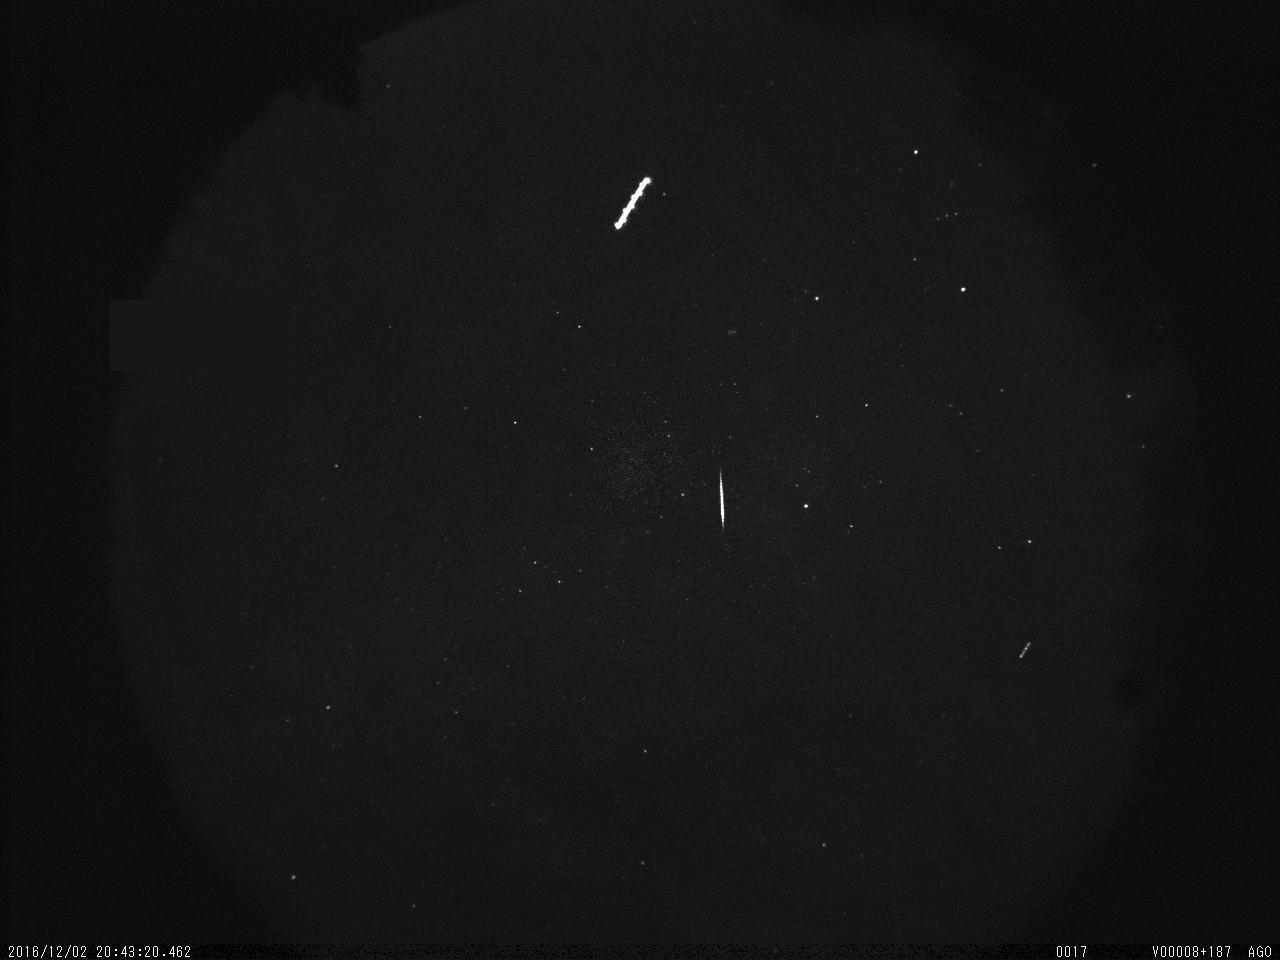meteor: (711, 449, 732, 544)
satelite: (607, 166, 656, 242), (1011, 628, 1040, 667)
